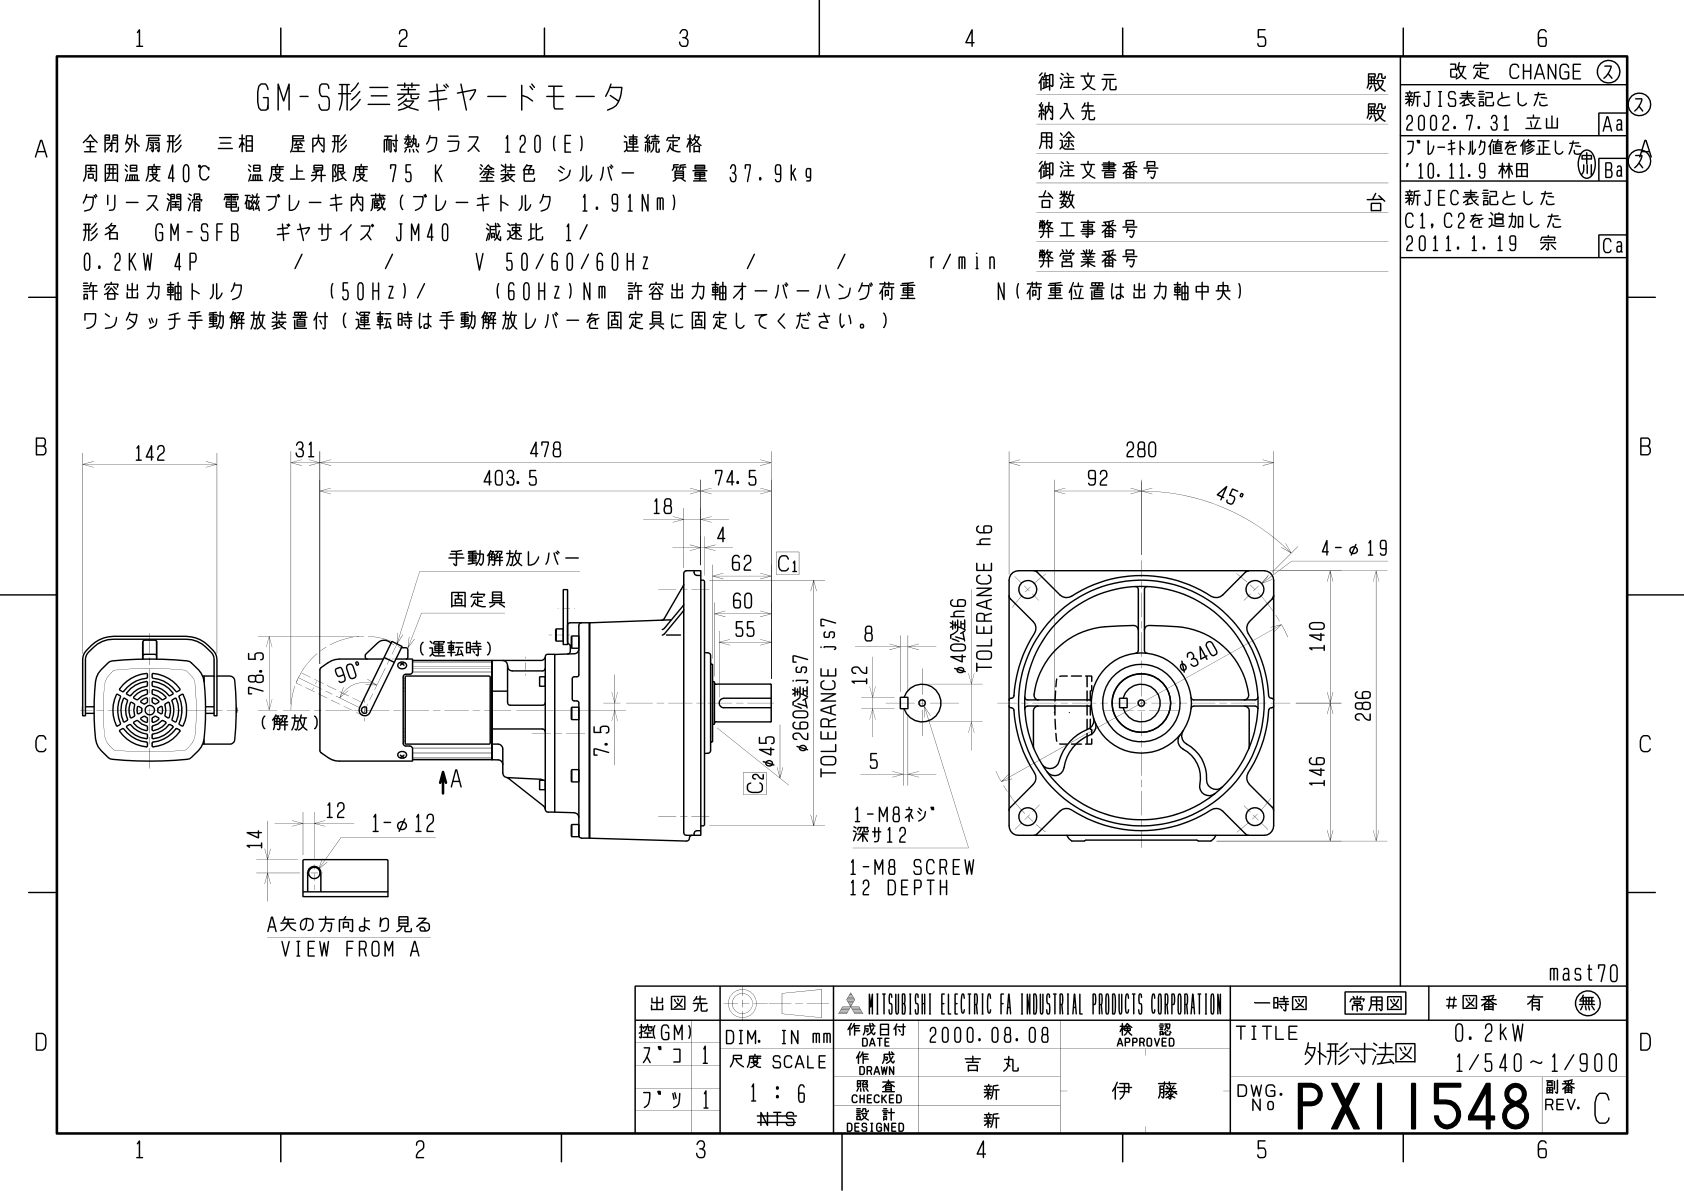GM_S_手動ブレーキ＿三相_フランジ: (70, 388, 1389, 963)
